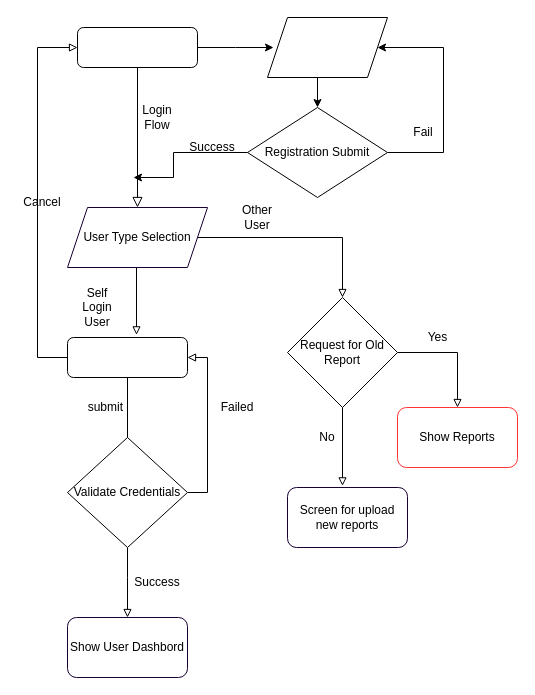
The diagram is 535 pixels wide and 695 high, and some of its shapes have lost their labels. Here are the shapes that lost their labels. From the top down, the box of each, then its label:
(76, 26, 198, 68): Start
(266, 16, 388, 78): Registration Flow
(66, 336, 188, 378): Login Page
